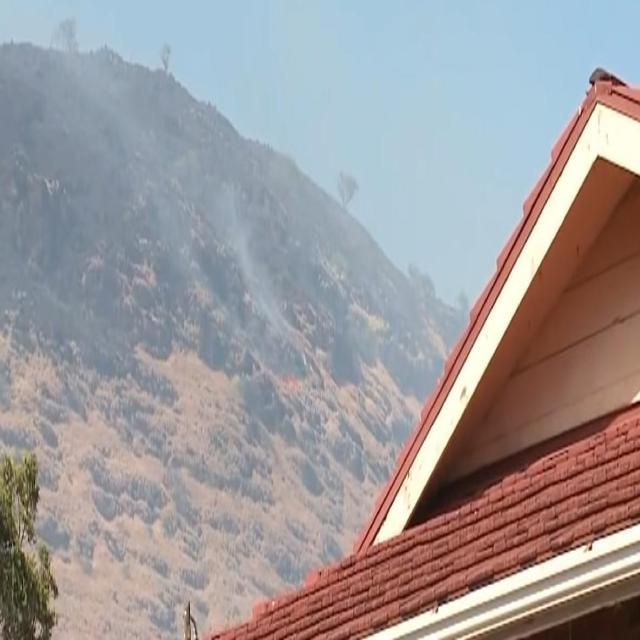Smoke: (210, 167, 290, 325)
